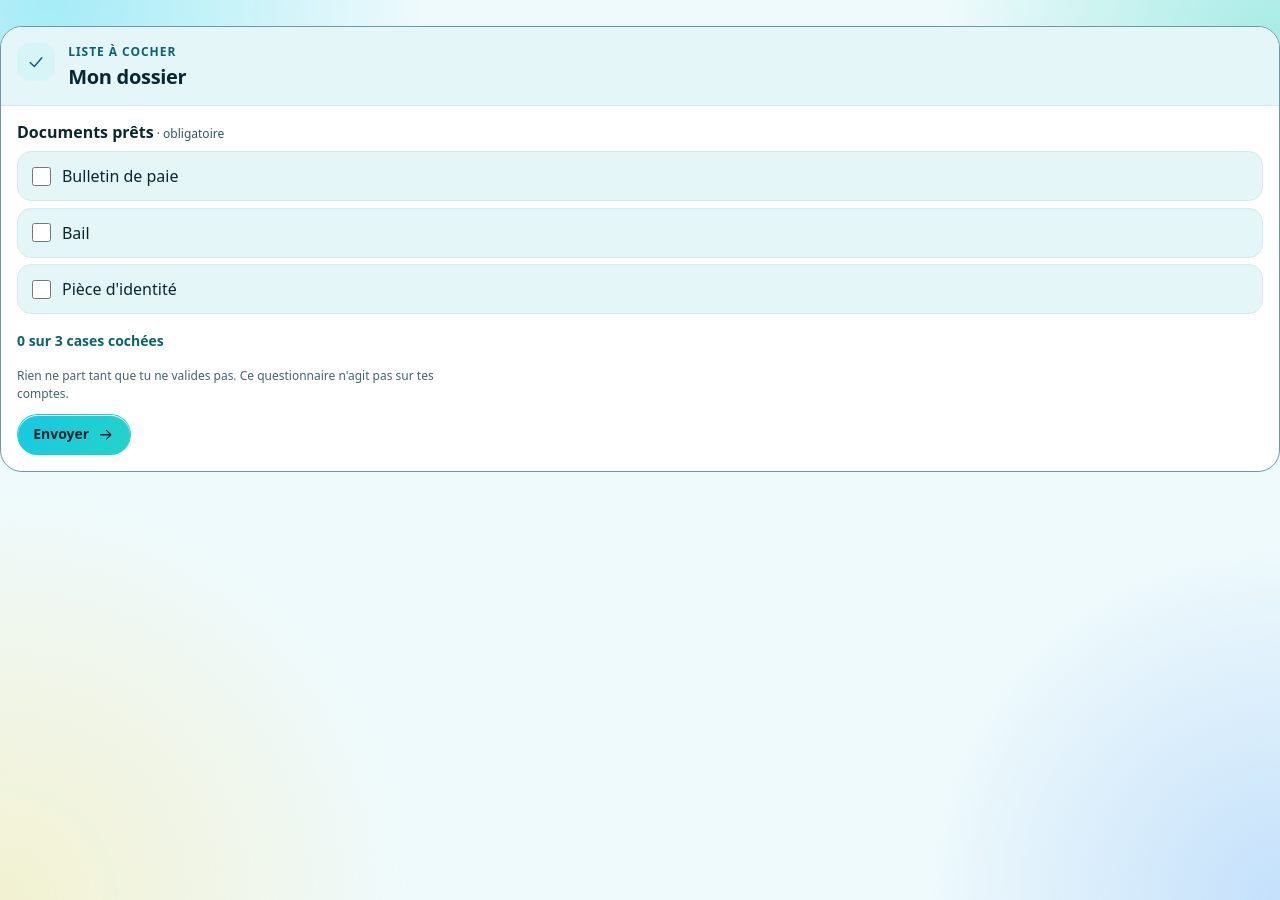
Test: widgets de conversation Bank › allows multiple checked choices, shows progress and keeps the exact answer
Expected: the text with class "chat-check-progress" reads "0 sur 3 cases cochées", [17,331,164,350]
Click the checkbox labelled "Bulletin de paie": point(41, 176) [32,167,51,186]
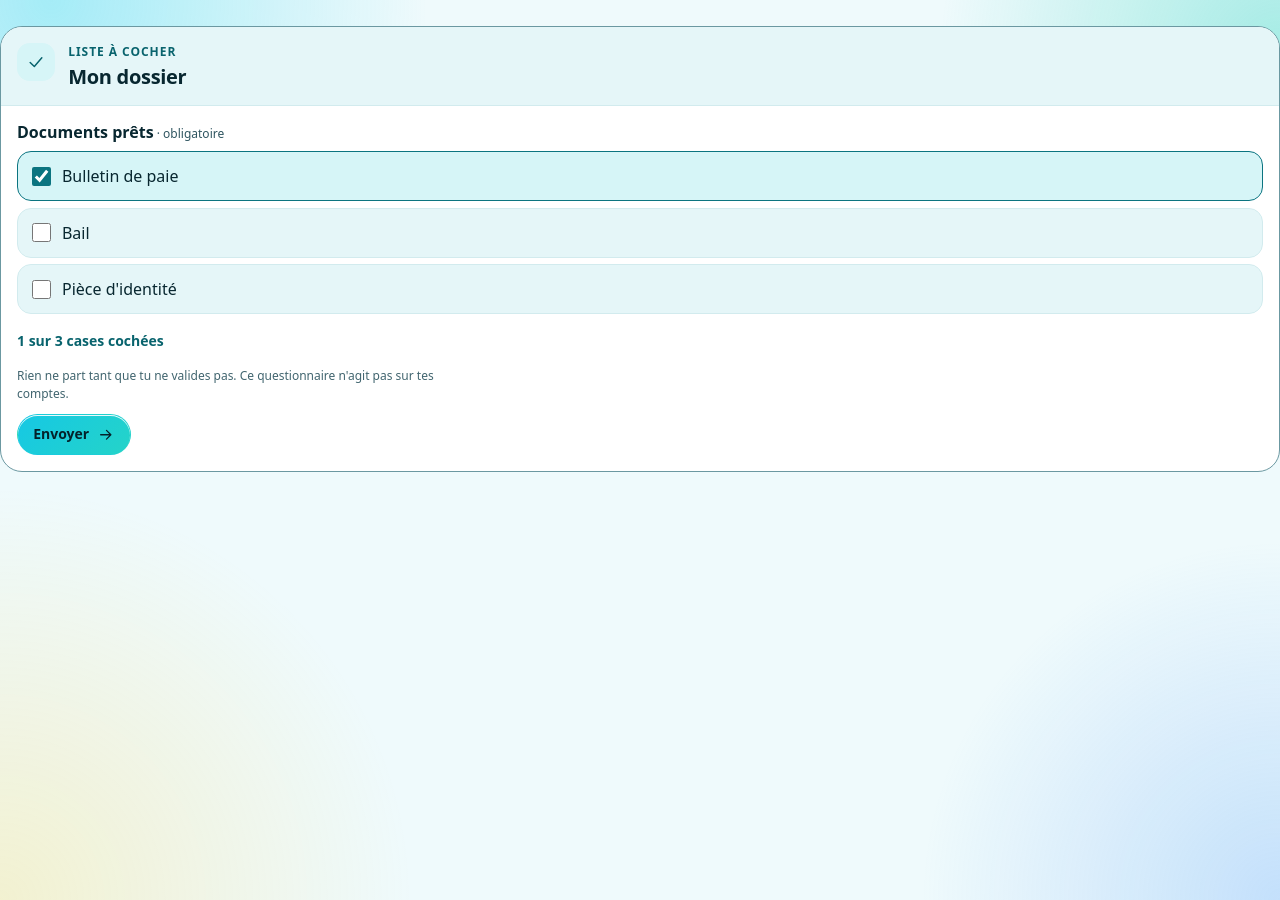
Click the checkbox labelled "Pièce d'identité": point(41, 289) [32,280,51,299]
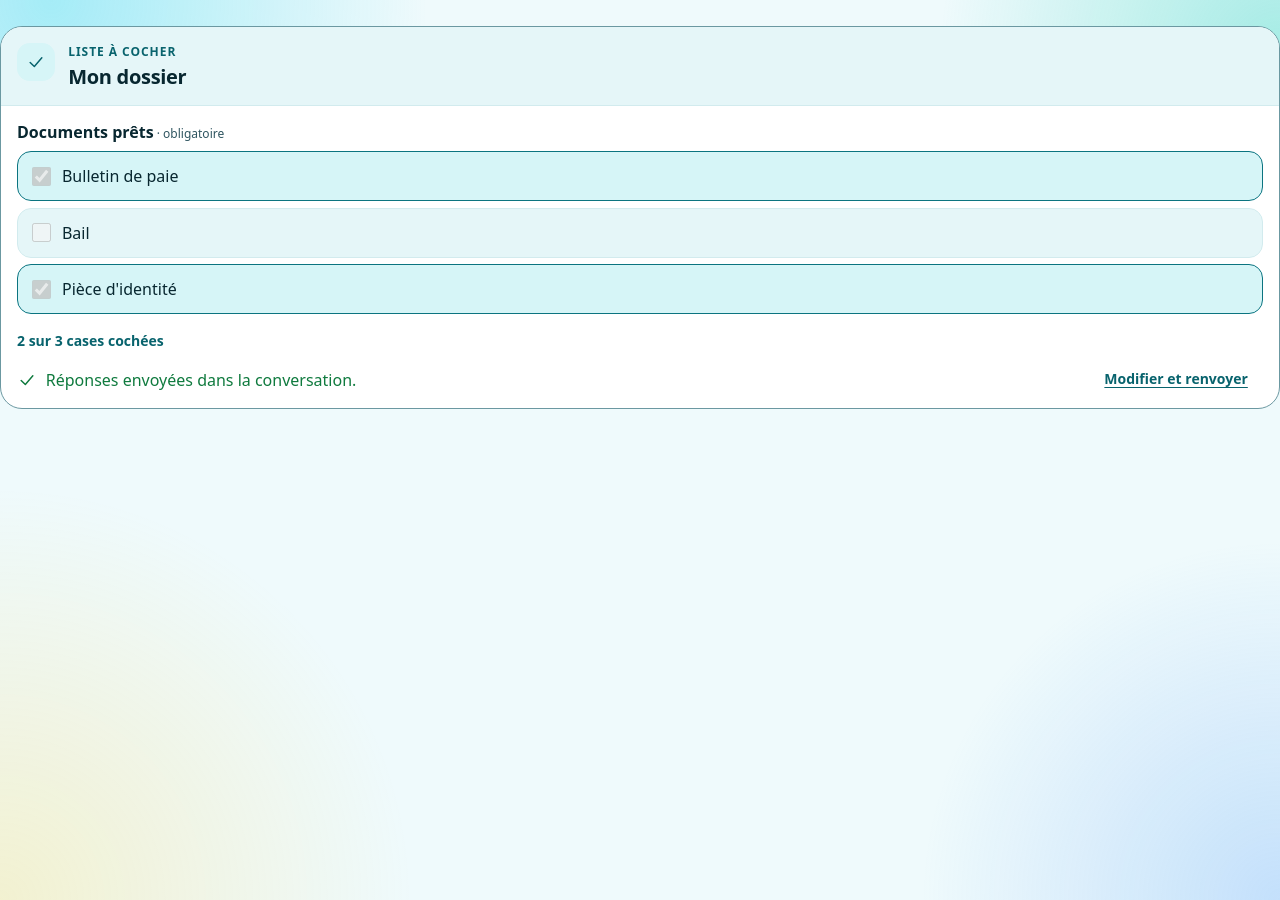
Now the text with class "chat-check-progress" reads "2 sur 3 cases cochées", box [17,331,164,350]
